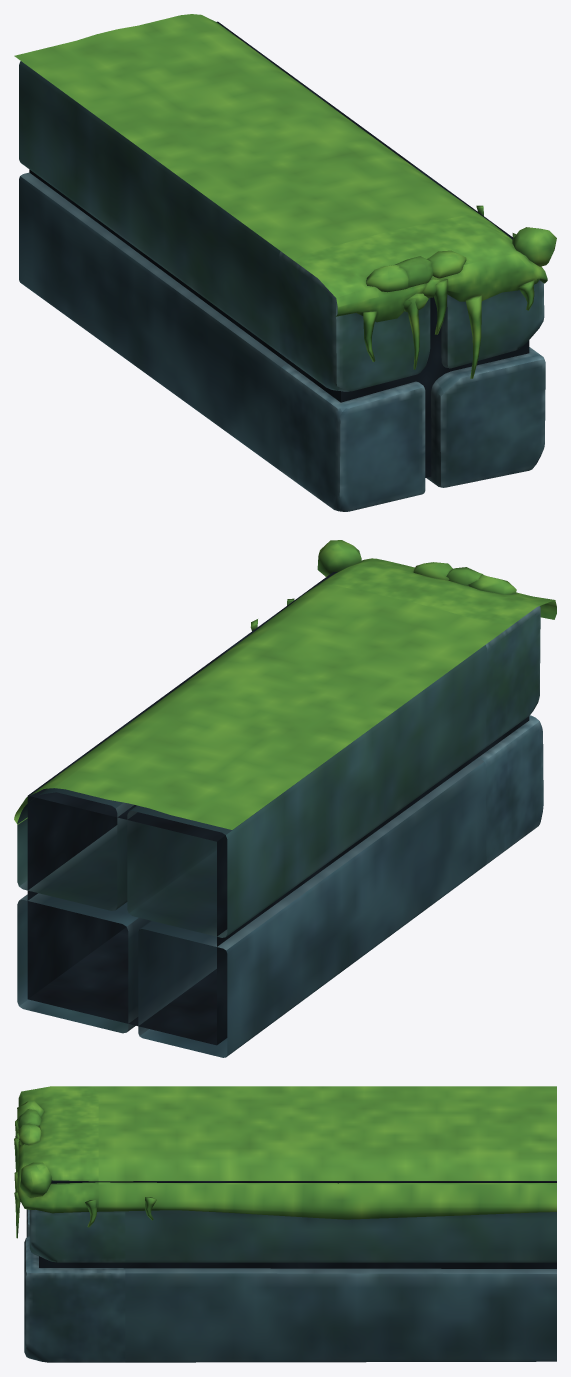
File: ENV_StoneEdge_R.fbx
3 renders of one model, top to bottom at view 1: azimuth 30°, elevation 25°; view 2: azimuth 150°, elevation 25°; view 3: azimuth 270°, elevation 25°, orthographic. The views are drawn at different scales.
Parts seen in each view (by area): view 1: ENV_StoneEdge_R; view 2: ENV_StoneEdge_R; view 3: ENV_StoneEdge_R.
Boxes of the visible parts, x1=… form: ENV_StoneEdge_R: x1=14, y1=14, x2=556, y2=511; ENV_StoneEdge_R: x1=14, y1=540, x2=556, y2=1057; ENV_StoneEdge_R: x1=14, y1=1086, x2=556, y2=1362.
Bounding box in the file's own units: 1.04 × 1.04 × 2.58.
